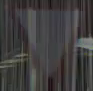Give way: (6, 5, 77, 74)
